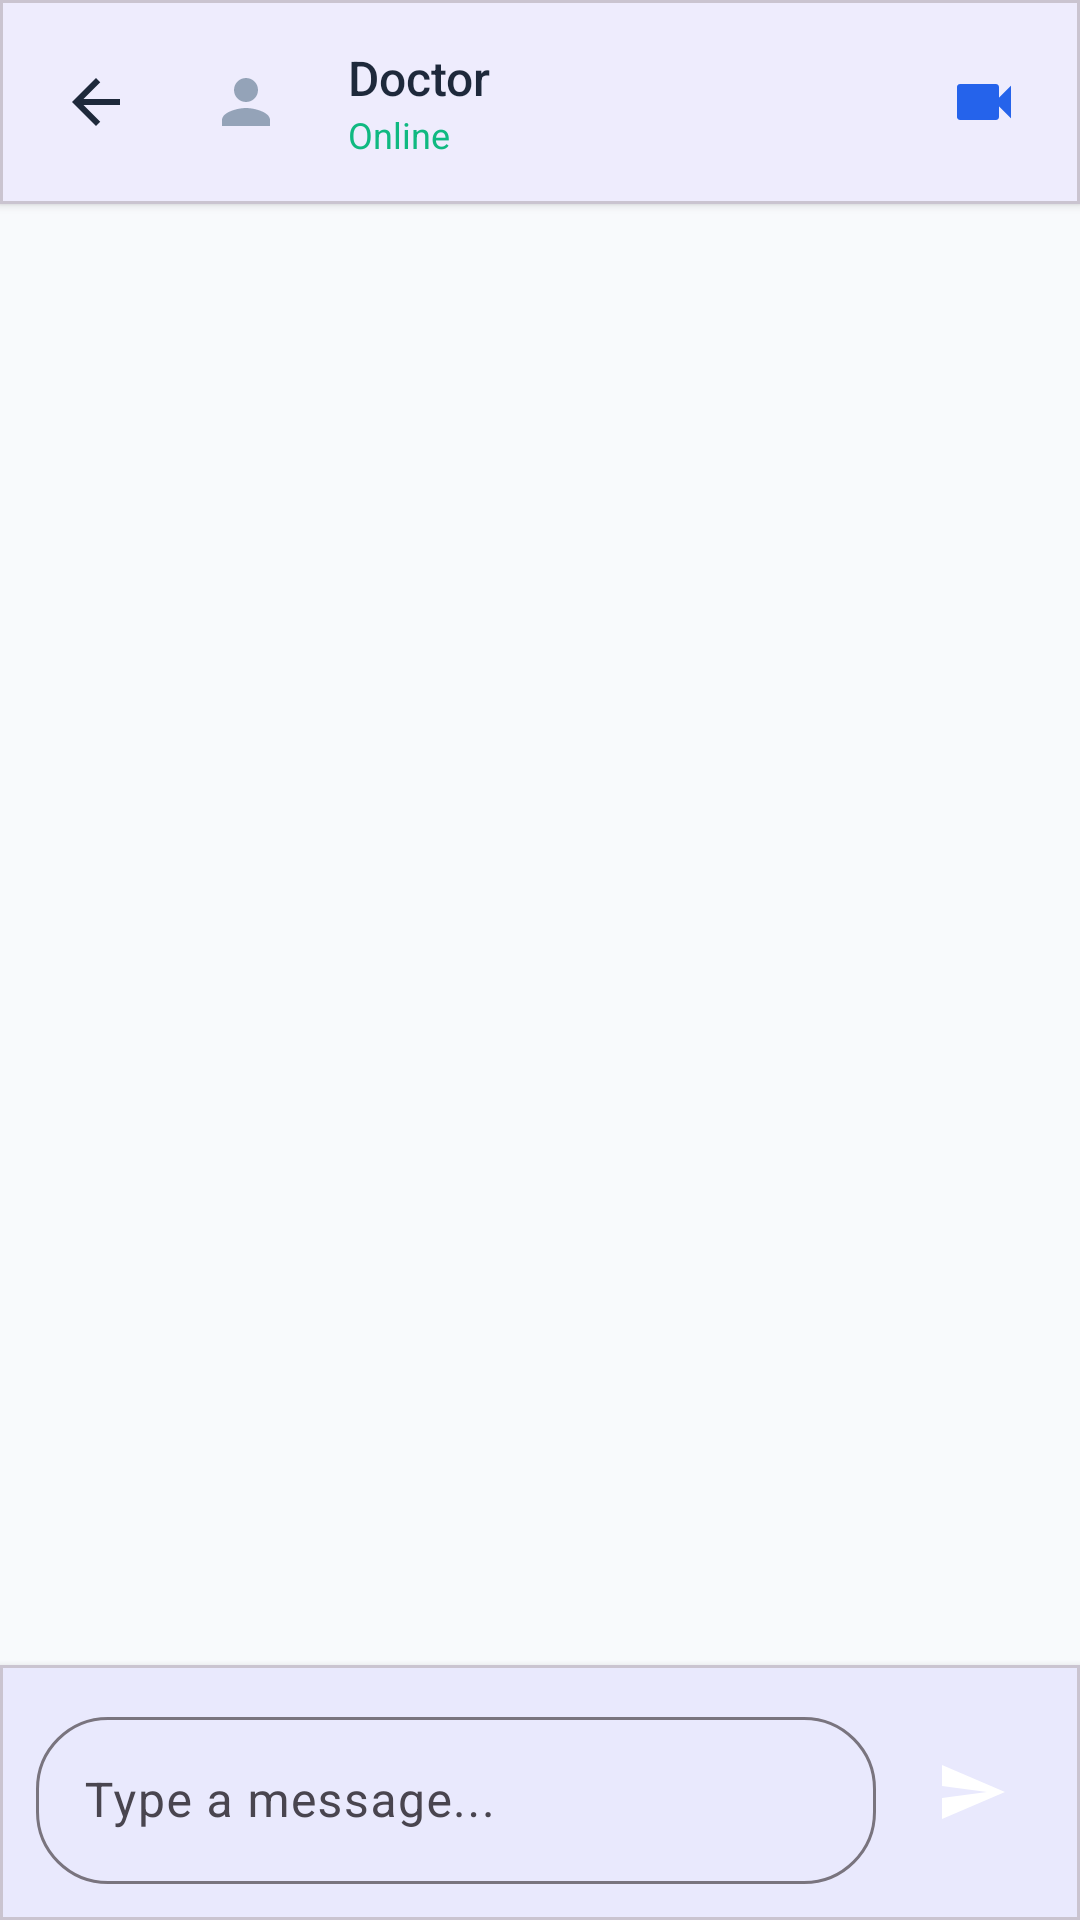

Screen size 1080 x 1920. Icon name, then its box in pixels as (x1, y1, x2, y2):
Back: (72, 78, 120, 126)
profile: (222, 78, 270, 126)
Video call: (957, 84, 1011, 120)
